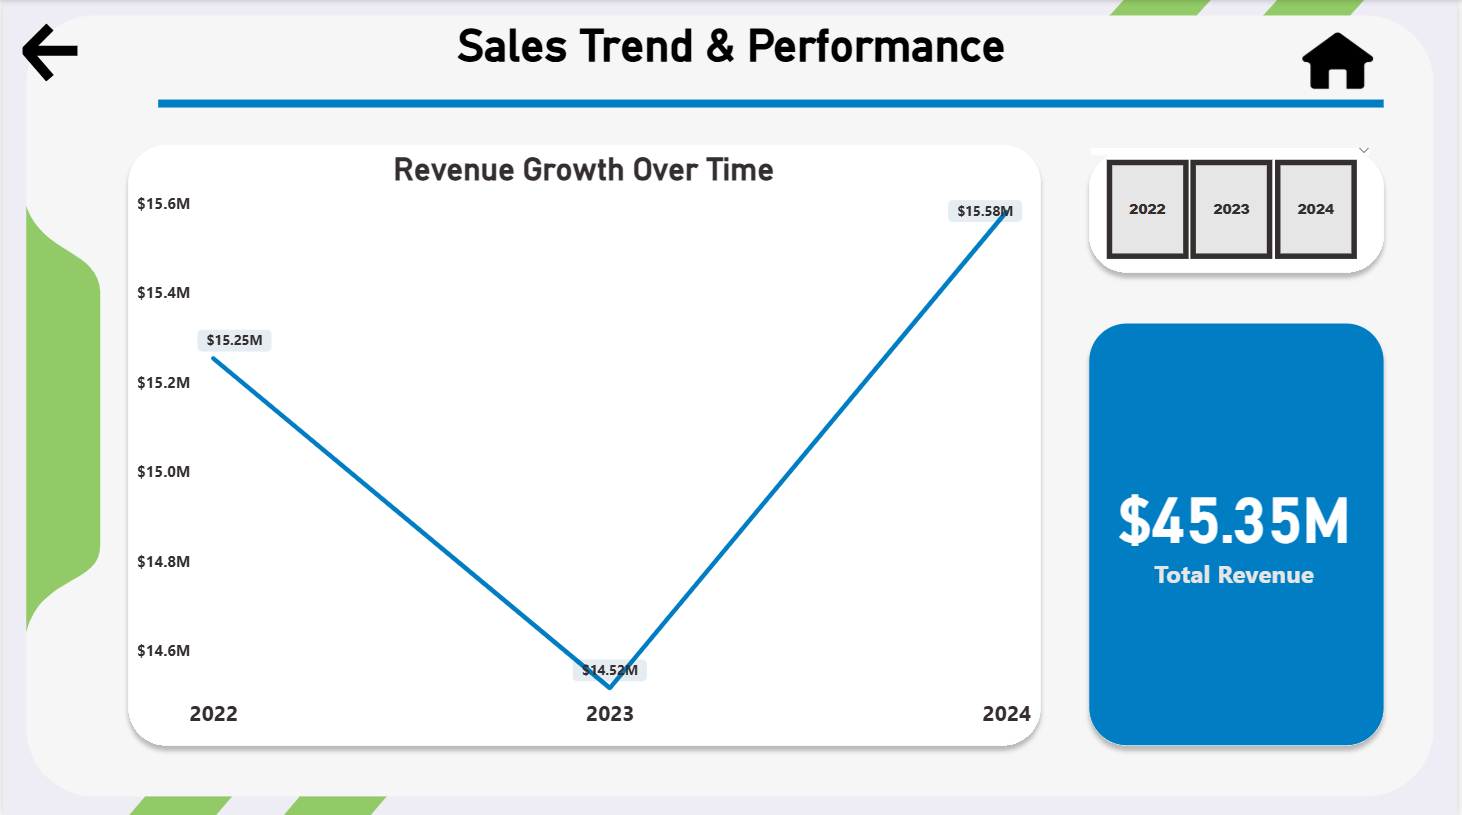

The dashboard page shown, as its layout file describes it:
{"tool":"powerbi","page":{"name":"Sales Trend & Performance","canvas":[1280,720],"ordinal":3},"visuals":[{"type":"lineChart","title":"Revenue Growth Over Time","fields":{"Category":["All_Years_Orders.order_date.Variation.Date Hierarchy.Year"],"Y":["Key_Measures.Total Revenue"]},"box":[111.9,133.3,797.6,517.9],"z":0},{"type":"card","fields":{"Values":["Key_Measures.Total Revenue"]},"box":[952.4,315.5,261.9,298.8],"z":1},{"type":"slicer","fields":{"Values":["All_Years_Orders.order_date.Variation.Date Hierarchy.Year"]},"box":[944.1,125,270.2,109.5],"z":2},{"type":"textbox","title":"Sales Trend & Performance","box":[263.1,16.7,756,79.8],"z":3},{"type":"actionButton","box":[13.1,16.7,79.8,59.5],"z":4},{"type":"image","box":[1110.7,0,125,106],"z":5}]}

Visuals, with their boxes in screenshot pixels (x1, y1, x2, y2), scaled from the page's 1280x720 canvas onto the 1462x815 screenshot:
"Revenue Growth Over Time" lineChart: (128,151,1039,737)
card - Key_Measures.Total Revenue: (1088,357,1387,695)
slicer - All_Years_Orders.order_date.Variation.Date Hierarchy.Year: (1078,141,1387,265)
"Sales Trend & Performance" textbox: (301,19,1164,109)
actionButton: (15,19,106,86)
image: (1269,0,1411,120)
